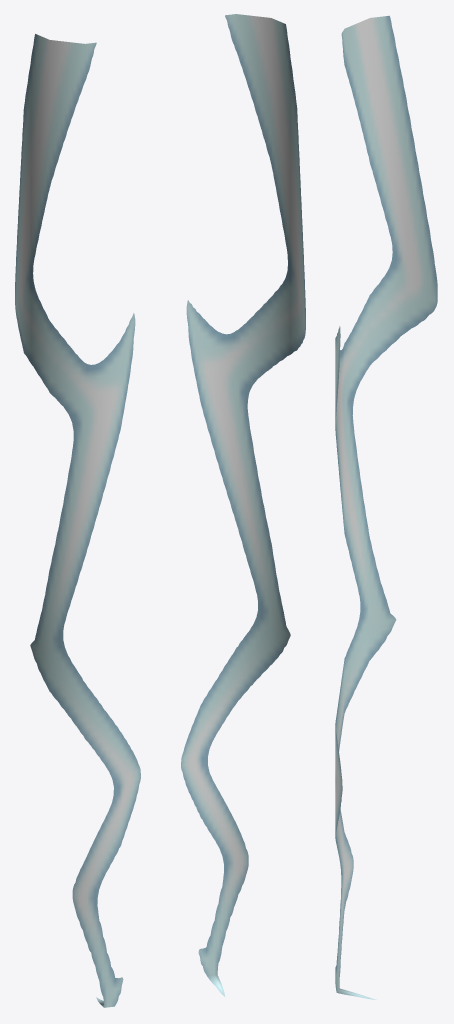
Rendered from LightningParticle.fbx.
3 renders of one model, left to right at view 1: azimuth 30°, elevation 25°; view 2: azimuth 210°, elevation 25°; view 3: azimuth 270°, elevation 25°, orthographic.
Parts seen in each view (by area): view 1: LightingParticle; view 2: LightingParticle; view 3: LightingParticle.
Part boxes in pixels (x1,y1,x2,y2): LightingParticle: (15, 34, 140, 1007); LightingParticle: (181, 14, 305, 996); LightingParticle: (335, 15, 437, 999).
Size of the model in its own units: 0.00629 by 0.0636 by 0.00629.
1 material, 1 textured.
